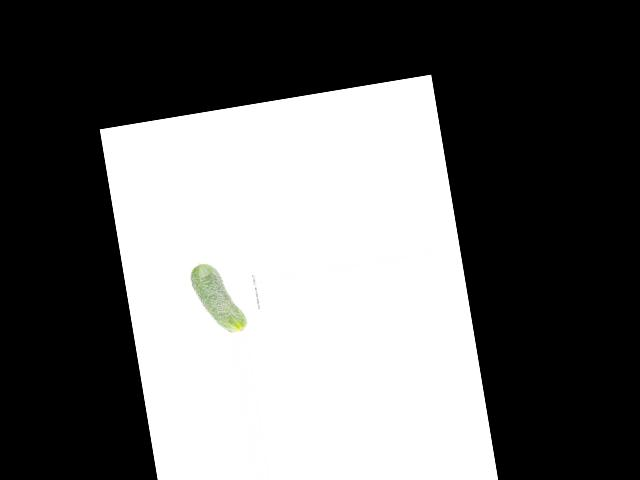cucumber: (188, 257, 248, 337)
